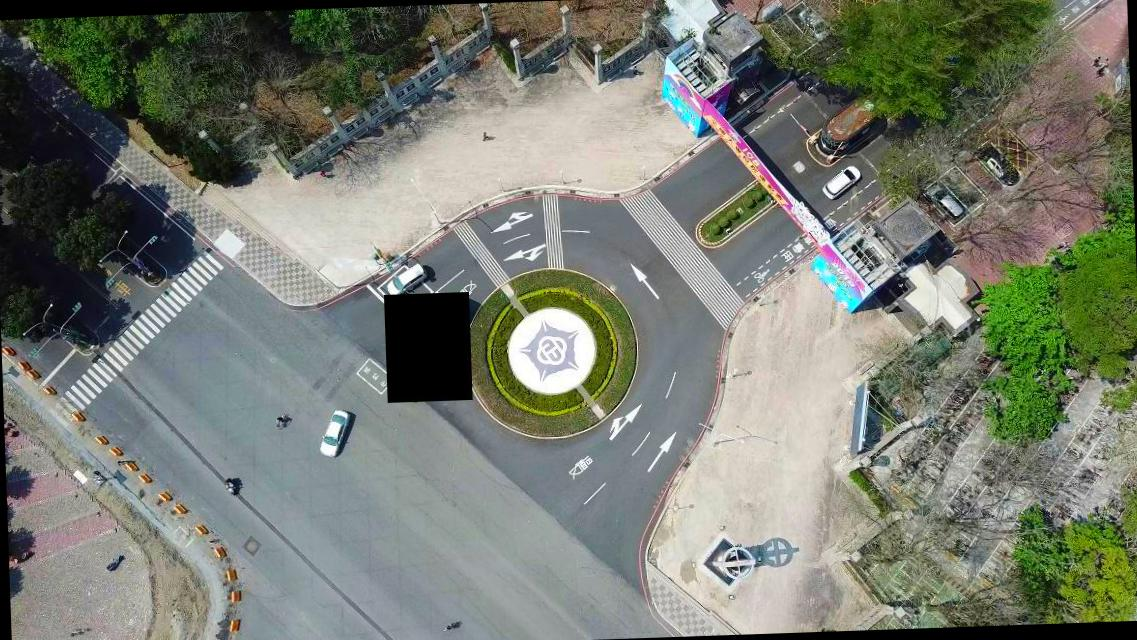vehicle: (317, 408, 352, 458), (924, 184, 964, 222), (821, 164, 861, 200), (976, 146, 1016, 182), (385, 262, 426, 297), (797, 6, 830, 43)
